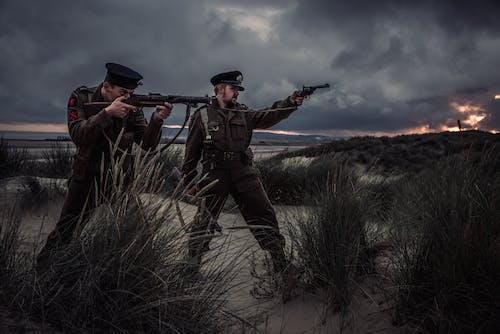gun: (165, 164, 224, 234), (80, 90, 212, 118), (298, 81, 330, 99)
